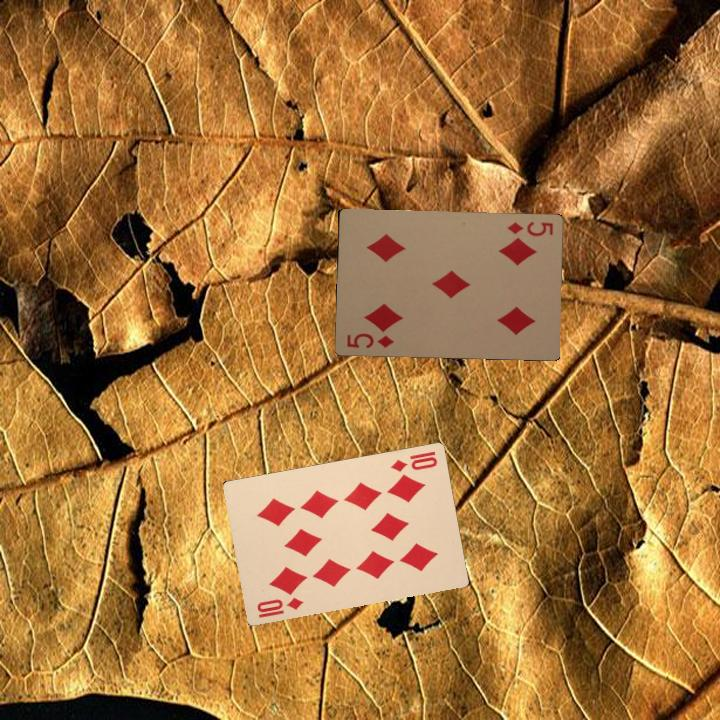10d: (387, 447, 440, 474), (253, 593, 306, 620)
5d: (343, 329, 396, 350), (503, 218, 556, 239)
